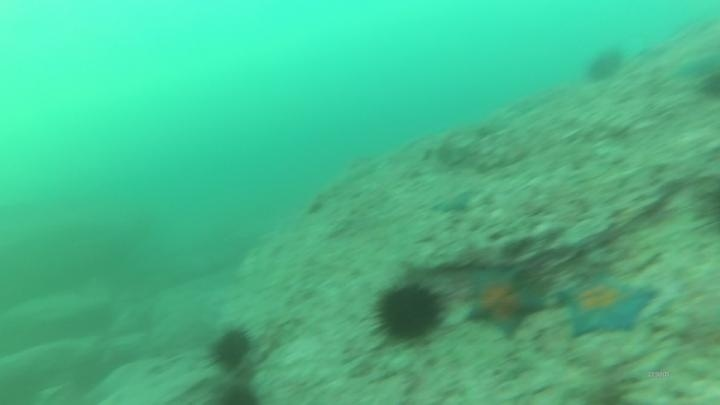echinus: (369, 276, 449, 346), (207, 324, 254, 372), (583, 45, 626, 86), (217, 381, 262, 405)
starfish: (553, 270, 660, 341), (462, 262, 548, 342), (429, 185, 478, 216)
